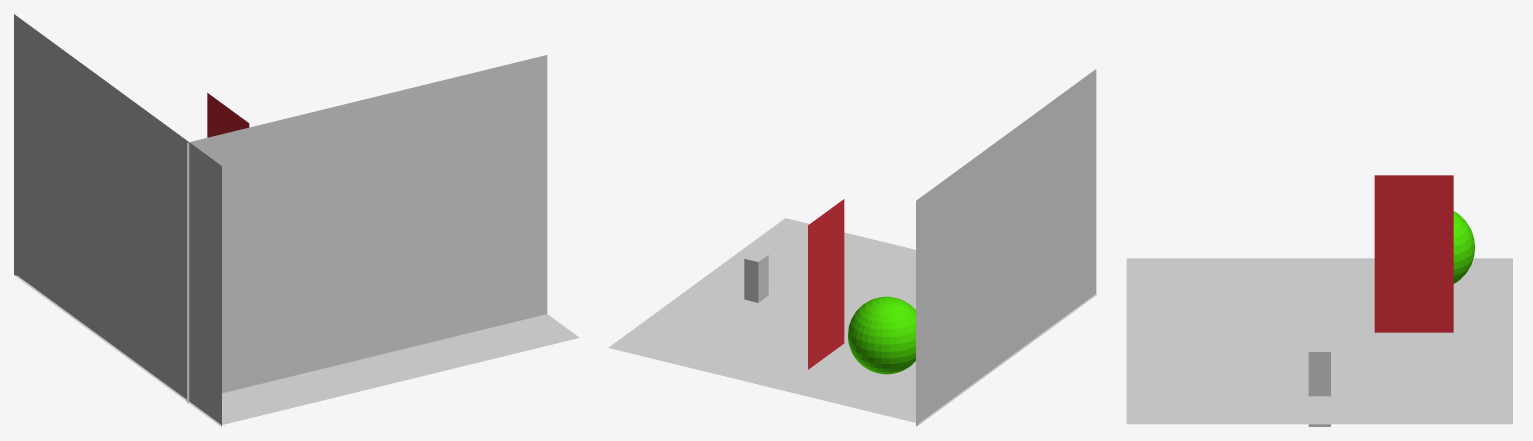
The model's file is Button.glb.
The picture shows the model from 3 angles, left to right: view 1: azimuth 30°, elevation 25°; view 2: azimuth 150°, elevation 25°; view 3: azimuth 270°, elevation 25°; orthographic projection. The views are drawn at different scales.
Visible parts, largest first — view 1: Plane.001, Plane.002, Plane, Door; view 2: Plane.002, Plane, Door, Sphere, Button; view 3: Plane, Door, Button, Sphere.
Part boxes in pixels (x1=…): Plane.001: x1=187, y1=55, x2=547, y2=403; Plane.002: x1=14, y1=14, x2=221, y2=426; Plane: x1=15, y1=275, x2=579, y2=425; Door: x1=207, y1=93, x2=249, y2=137; Plane.002: x1=916, y1=69, x2=1096, y2=426; Plane: x1=608, y1=218, x2=1097, y2=423; Door: x1=808, y1=199, x2=844, y2=369; Sphere: x1=848, y1=296, x2=915, y2=374; Button: x1=744, y1=251, x2=768, y2=302; Plane: x1=1126, y1=258, x2=1512, y2=424; Door: x1=1374, y1=175, x2=1453, y2=332; Button: x1=1308, y1=344, x2=1330, y2=426; Sphere: x1=1453, y1=211, x2=1474, y2=283.
Bounding box in the file's own units: 9.27 × 7.17 × 9.27.
